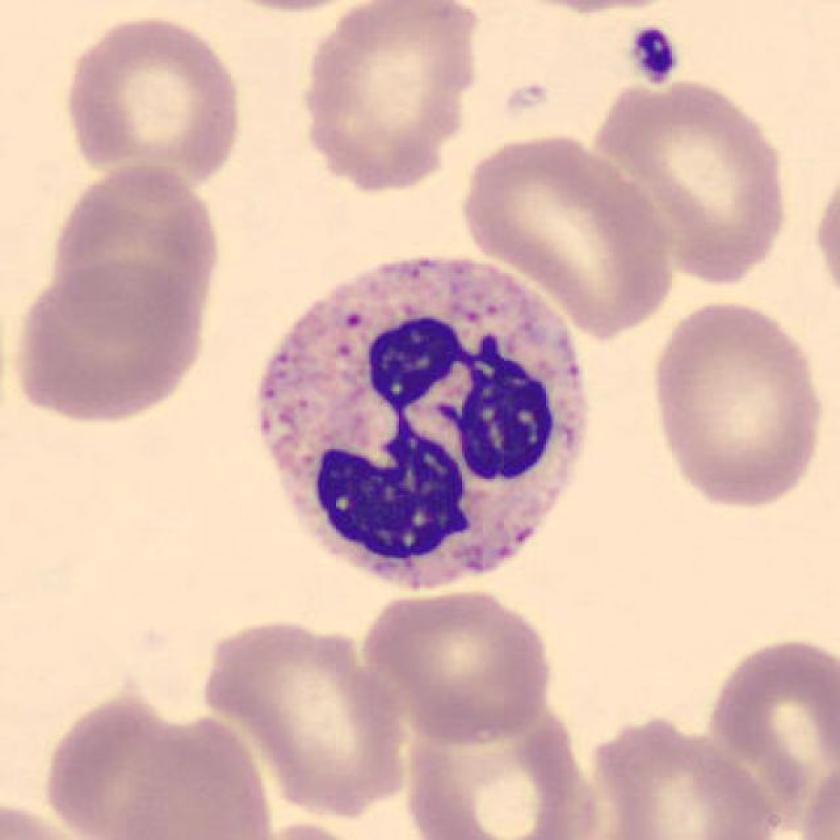neutrophil: (261, 256, 588, 587)
